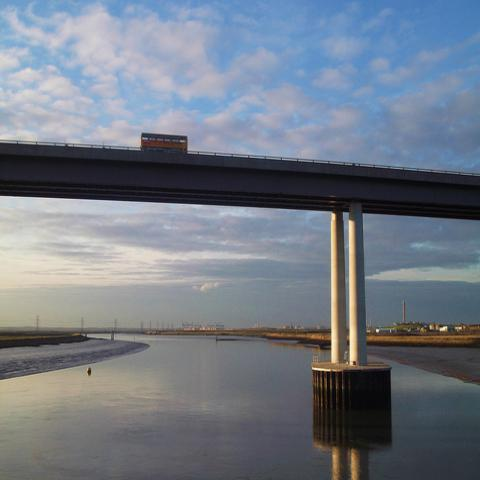bus: (140, 132, 188, 150)
